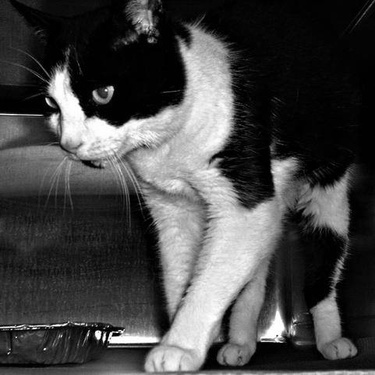cat: (30, 13, 359, 371)
